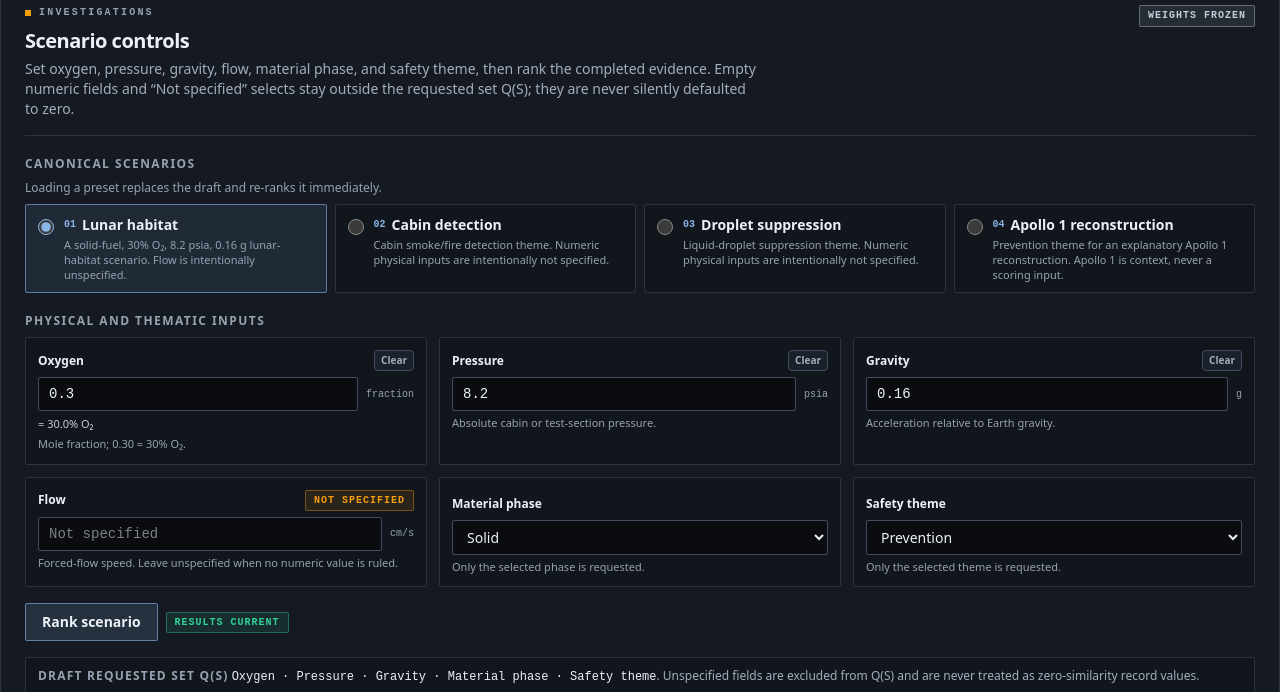
Test: Canonical scenario end-to-end flow › Scenario D: no Apollo 1 reconstruction claim; Apollo 1 stays out of rankings
Expected: the radio button labelled "Lunar habitat" is shown, [38,218,54,234]
Click the radio button labelled "Apollo 1 reconstruction" at (974, 226), box [966,218,982,234]
(page scrolled)
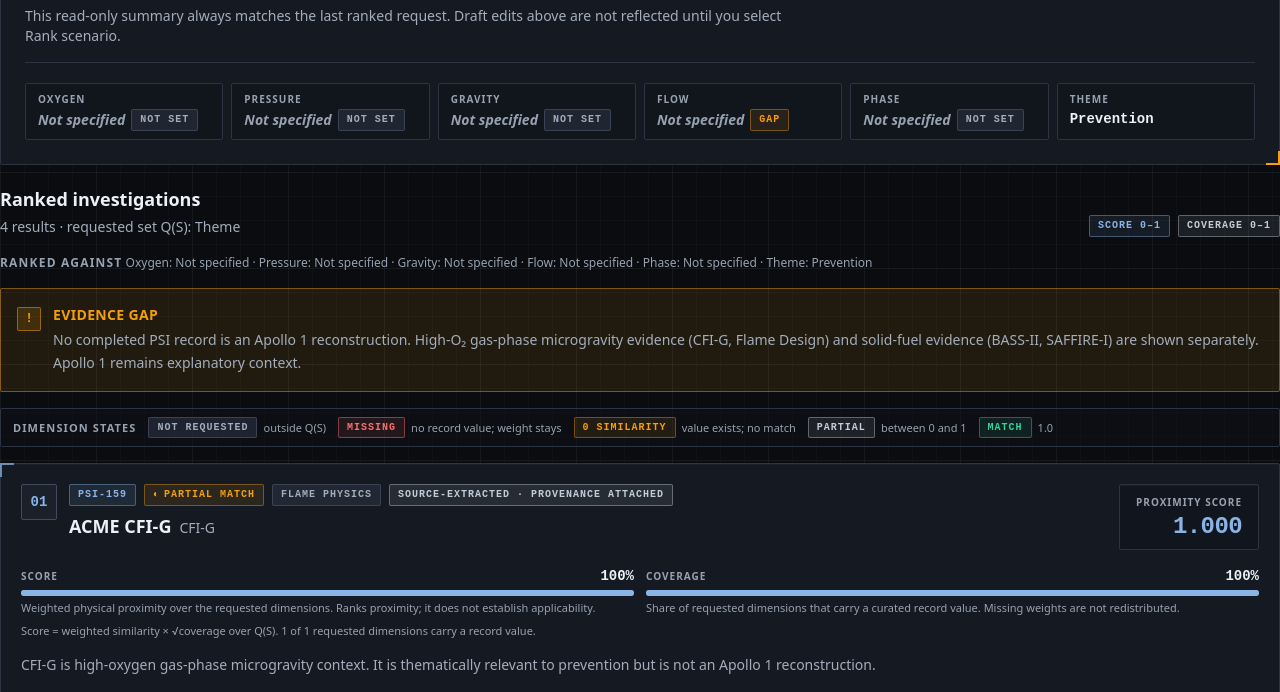
Now the element "Evidence gap" shows "No completed PSI record is an Apollo 1 reconstruction", box [53,330,1259,372]
Now the element "Evidence gap" shows "Apollo 1 remains explanatory context", box [53,330,1259,372]
